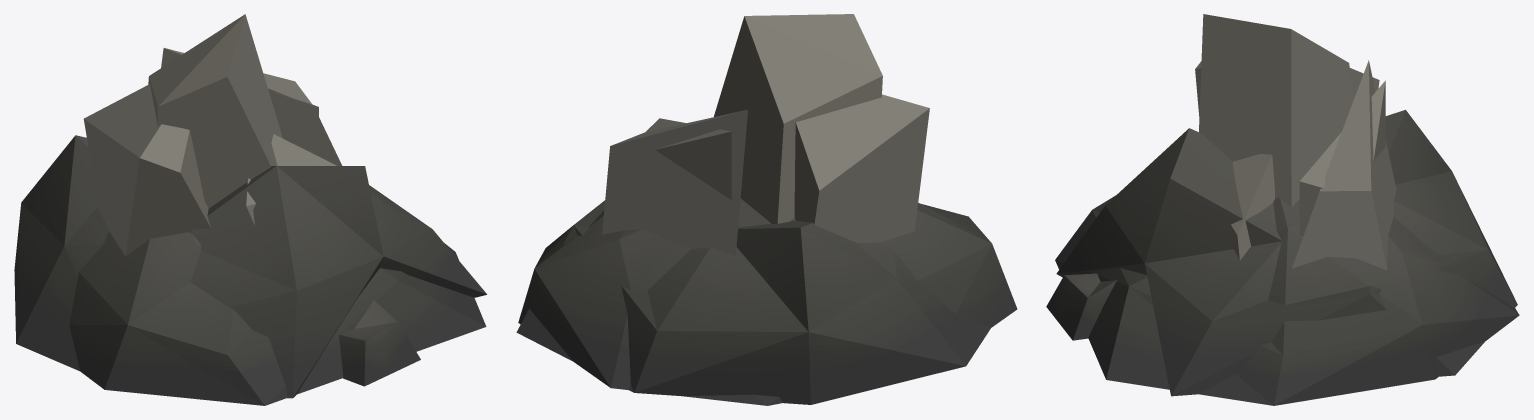
File: iron_stones.fbx
The picture shows the model from 3 angles, left to right: view 1: azimuth 30°, elevation 25°; view 2: azimuth 150°, elevation 25°; view 3: azimuth 270°, elevation 25°; orthographic projection. The views are drawn at different scales.
Visible parts, largest first — view 1: iron_stone_1, iron_stone_2; view 2: iron_stone_1, iron_stone_2; view 3: iron_stone_1, iron_stone_2.
Part boxes in pixels (box(x1,y1,x2,y2)): iron_stone_1: box(14, 14, 486, 398); iron_stone_2: box(69, 48, 486, 405); iron_stone_1: box(516, 14, 990, 404); iron_stone_2: box(518, 94, 1017, 405); iron_stone_1: box(1046, 14, 1517, 396); iron_stone_2: box(1055, 60, 1519, 405).
Size of the model in its own units: 142 by 89.79 by 138.
